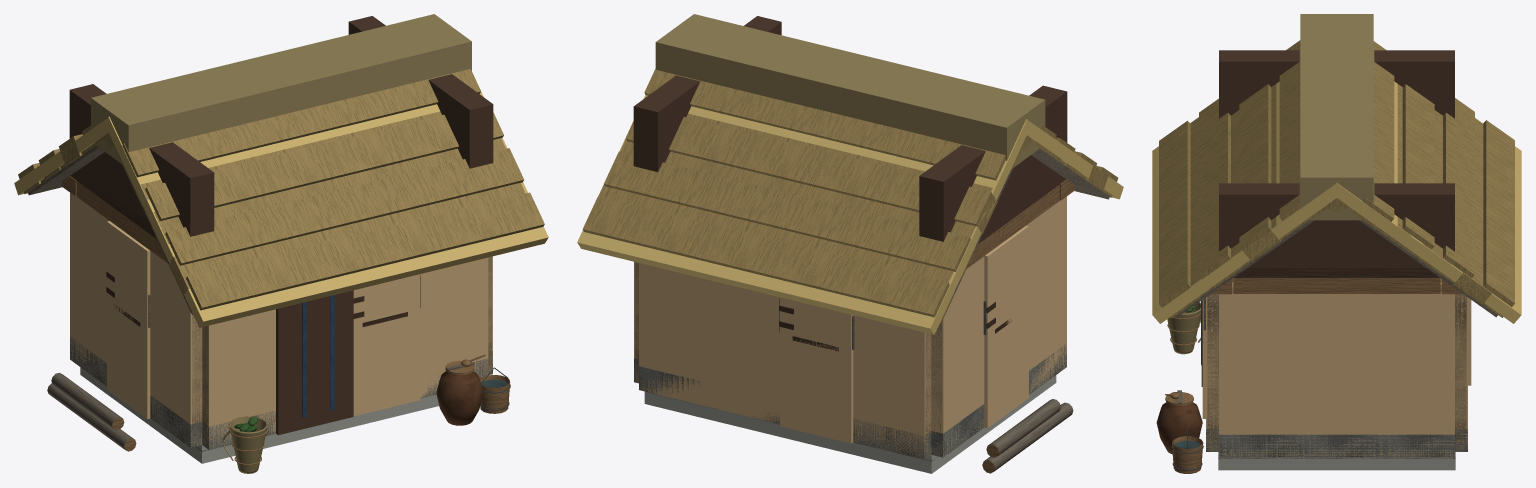
File: kit_hut_mud_ochre.gltf
3 views of the same model, side by side, from view 1: azimuth 30°, elevation 25°; view 2: azimuth 150°, elevation 25°; view 3: azimuth 270°, elevation 25° (orthographic). The views are drawn at different scales.
Parts seen in each view (by area): view 1: Far, Near, Detail; view 2: Far, Near, Detail; view 3: Far, Near, Detail.
Part boxes in pixels (x1=…): Far: x1=14, y1=14, x2=548, y2=463; Near: x1=18, y1=69, x2=544, y2=451; Detail: x1=47, y1=354, x2=510, y2=473; Far: x1=577, y1=14, x2=1123, y2=473; Near: x1=582, y1=69, x2=1118, y2=461; Detail: x1=982, y1=399, x2=1073, y2=473; Far: x1=1152, y1=14, x2=1521, y2=470; Near: x1=1159, y1=40, x2=1514, y2=458; Detail: x1=1156, y1=302, x2=1203, y2=473.
Bounding box in the file's own units: 5.16 × 4.32 × 4.69.
19 materials, 18 textured.
